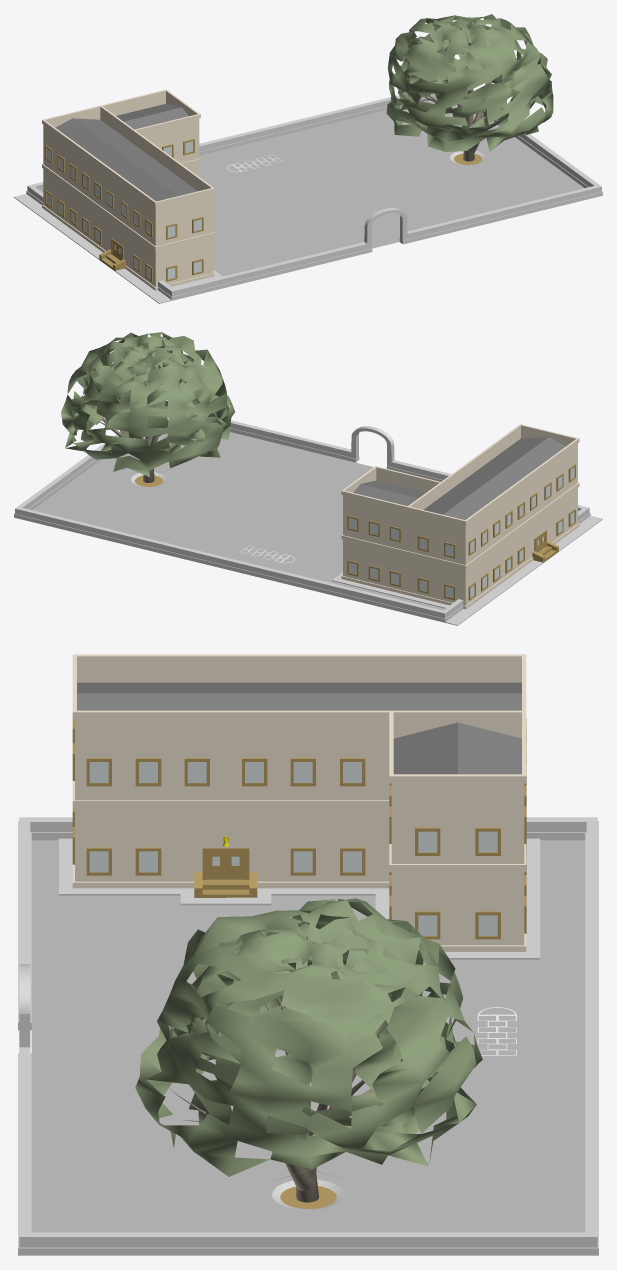
The model's file is MAP reworked.fbx.
The picture shows the model from 3 angles, top to bottom: view 1: azimuth 30°, elevation 25°; view 2: azimuth 150°, elevation 25°; view 3: azimuth 270°, elevation 25°; orthographic projection. The views are drawn at different scales.
Visible parts, largest first — view 1: SketchUp; view 2: SketchUp; view 3: SketchUp.
Part boxes in pixels (x1,y1,x2,y2): SketchUp: (14,14,602,303); SketchUp: (14,332,602,625); SketchUp: (18,654,598,1255).
Bounding box in the file's own units: 7621 × 2286 × 4204.
